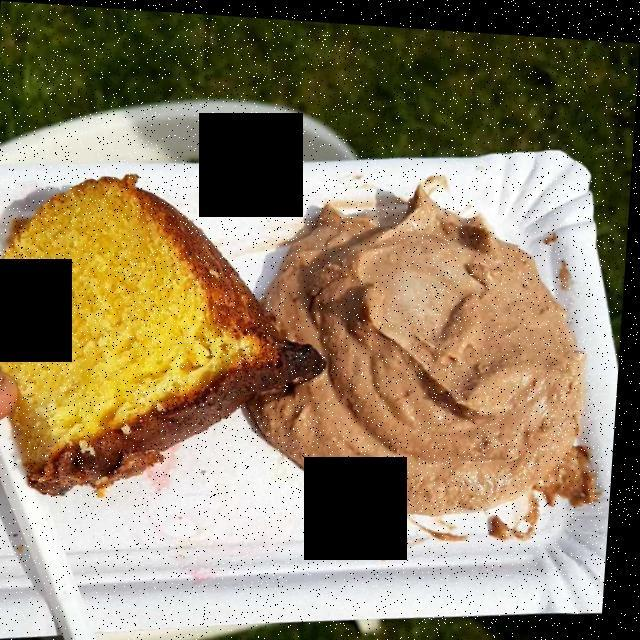biscuits: (0, 176, 295, 489)
chocolate-mousse: (269, 181, 600, 512)
